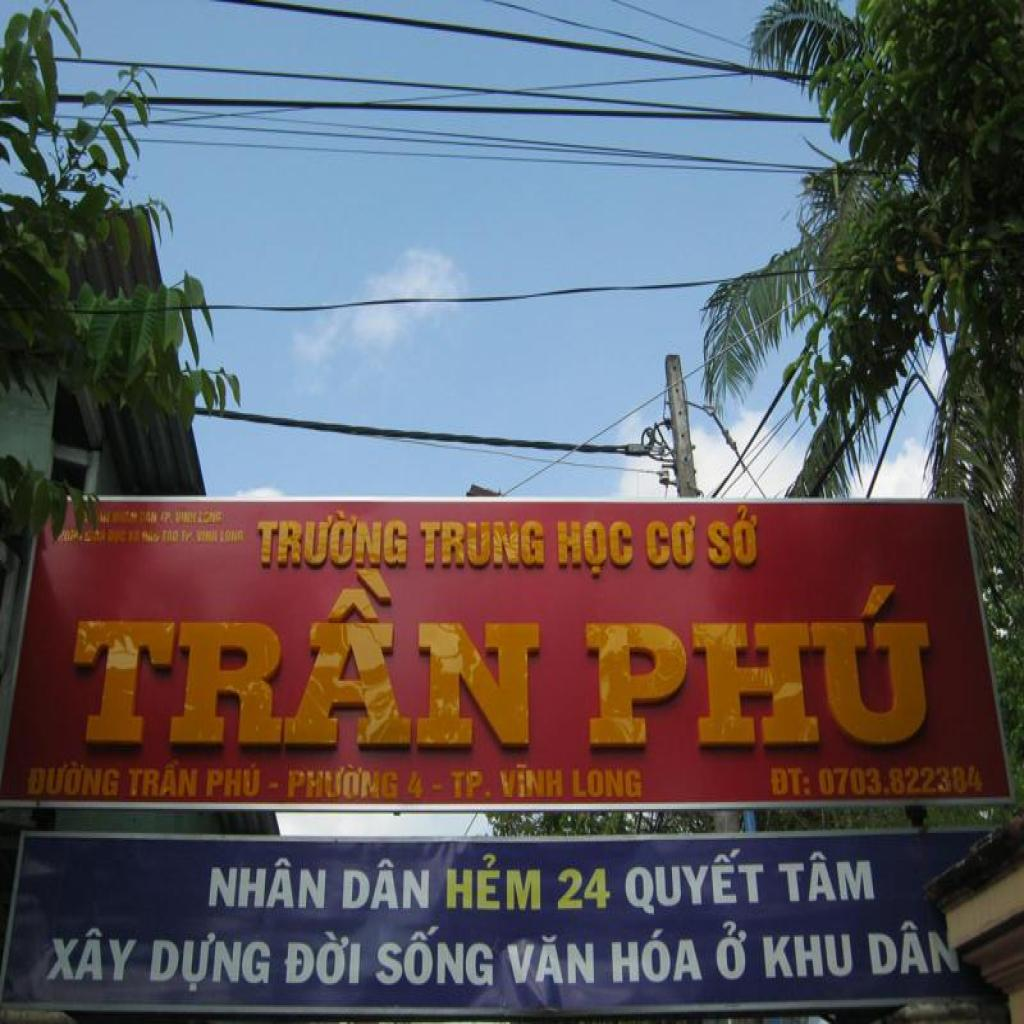text: (62, 563, 542, 749), (582, 582, 946, 749), (622, 847, 768, 918), (254, 508, 410, 565), (147, 928, 274, 995), (374, 925, 496, 990), (207, 854, 329, 912), (817, 763, 987, 799), (42, 925, 144, 985), (445, 852, 543, 913), (418, 520, 546, 566), (610, 927, 706, 986), (776, 850, 876, 904), (342, 857, 431, 911), (283, 929, 363, 988), (506, 934, 596, 986), (286, 761, 400, 802), (760, 934, 856, 982), (450, 761, 564, 801), (557, 519, 635, 575), (25, 759, 123, 799), (706, 504, 760, 566), (125, 758, 201, 798), (645, 516, 698, 566), (556, 867, 613, 911), (572, 766, 644, 800), (712, 920, 750, 983), (205, 761, 262, 799), (768, 766, 812, 797), (406, 768, 426, 800), (182, 529, 219, 544), (220, 529, 246, 544)
